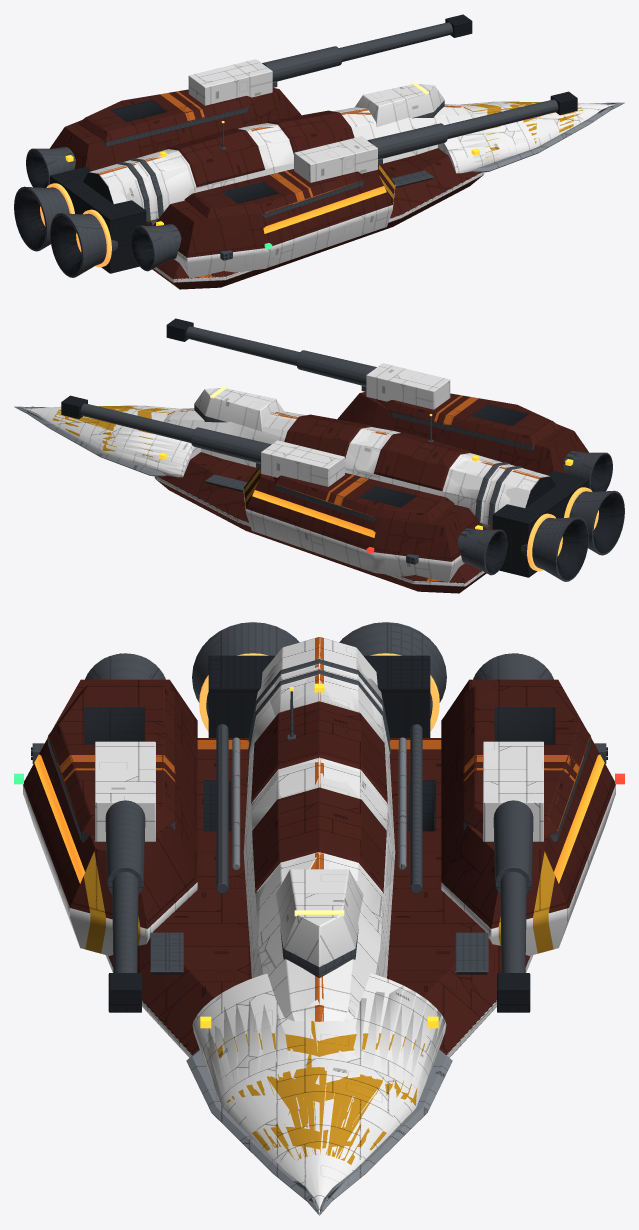
Rendered from ashline_lode.glb.
3 renders of one model, top to bottom at view 1: azimuth 30°, elevation 25°; view 2: azimuth 150°, elevation 25°; view 3: azimuth 270°, elevation 25°, orthographic. The views are drawn at different scales.
Parts seen in each view (by area): view 1: LOD0_MOTION_HULL_CORE_Hull, LOD0_MOTION_HULL_CORE_Armor, LOD0_MOTION_HULL_CORE_Mechanical, LOD0_MOTION_HULL_CORE_MechanicalDark, LOD2_MOTION_HULL_CORE_MechanicalDark, LOD2_MOTION_HULL_CORE_Armor, LOD1_MOTION_HULL_CORE_Armor, LOD1_MOTION_HULL_CORE_Mechanical, LOD2_MOTION_HULL_CORE_Mechanical, LOD1_MOTION_HULL_CORE_Hull, LOD0_MOTION_HULL_CORE_Livery, LOD0_MOTION_HULL_CORE_BrushedMetal (+5 smaller); view 2: LOD0_MOTION_HULL_CORE_Hull, LOD0_MOTION_HULL_CORE_Armor, LOD0_MOTION_HULL_CORE_Mechanical, LOD0_MOTION_HULL_CORE_MechanicalDark, LOD1_MOTION_HULL_CORE_Armor, LOD2_MOTION_HULL_CORE_MechanicalDark, LOD2_MOTION_HULL_CORE_Armor, LOD1_MOTION_HULL_CORE_Mechanical, LOD2_MOTION_HULL_CORE_Mechanical, LOD1_MOTION_HULL_CORE_Hull, LOD0_MOTION_HULL_CORE_Livery, LOD0_MOTION_HULL_CORE_BrushedMetal (+5 smaller); view 3: LOD0_MOTION_HULL_CORE_Hull, LOD0_MOTION_HULL_CORE_Armor, LOD0_MOTION_HULL_CORE_Mechanical, LOD1_MOTION_HULL_CORE_Armor, LOD2_MOTION_HULL_CORE_Armor, LOD0_MOTION_HULL_CORE_MechanicalDark, LOD0_MOTION_HULL_CORE_BrushedMetal, LOD0_MOTION_HULL_CORE_Warning, LOD2_MOTION_HULL_CORE_MechanicalDark, LOD2_MOTION_HULL_CORE_Warning, LOD1_MOTION_HULL_CORE_Mechanical, LOD1_MOTION_HULL_CORE_Hull (+6 smaller).
Boxes of the visible parts, x1=… form: LOD0_MOTION_HULL_CORE_Hull: x1=50, y1=88, x2=482, y2=289; LOD0_MOTION_HULL_CORE_Armor: x1=89, y1=59, x2=614, y2=282; LOD0_MOTION_HULL_CORE_Mechanical: x1=14, y1=22, x2=558, y2=277; LOD0_MOTION_HULL_CORE_MechanicalDark: x1=14, y1=14, x2=577, y2=275; LOD2_MOTION_HULL_CORE_MechanicalDark: x1=14, y1=23, x2=559, y2=275; LOD2_MOTION_HULL_CORE_Armor: x1=98, y1=82, x2=610, y2=282; LOD1_MOTION_HULL_CORE_Armor: x1=103, y1=71, x2=611, y2=282; LOD1_MOTION_HULL_CORE_Mechanical: x1=14, y1=57, x2=447, y2=276; LOD2_MOTION_HULL_CORE_Mechanical: x1=14, y1=23, x2=554, y2=277; LOD1_MOTION_HULL_CORE_Hull: x1=79, y1=95, x2=480, y2=286; LOD0_MOTION_HULL_CORE_Livery: x1=98, y1=91, x2=471, y2=277; LOD0_MOTION_HULL_CORE_BrushedMetal: x1=156, y1=102, x2=624, y2=219; LOD0_MOTION_HULL_CORE_Hull: x1=156, y1=392, x2=589, y2=593; LOD0_MOTION_HULL_CORE_Armor: x1=24, y1=363, x2=549, y2=586; LOD0_MOTION_HULL_CORE_Mechanical: x1=80, y1=326, x2=624, y2=581; LOD0_MOTION_HULL_CORE_MechanicalDark: x1=61, y1=318, x2=624, y2=579; LOD1_MOTION_HULL_CORE_Armor: x1=28, y1=375, x2=535, y2=586; LOD2_MOTION_HULL_CORE_MechanicalDark: x1=184, y1=329, x2=624, y2=579; LOD2_MOTION_HULL_CORE_Armor: x1=26, y1=393, x2=540, y2=586; LOD1_MOTION_HULL_CORE_Mechanical: x1=191, y1=361, x2=620, y2=580; LOD2_MOTION_HULL_CORE_Mechanical: x1=186, y1=332, x2=624, y2=581; LOD1_MOTION_HULL_CORE_Hull: x1=158, y1=399, x2=559, y2=593; LOD0_MOTION_HULL_CORE_Livery: x1=168, y1=395, x2=540, y2=581; LOD0_MOTION_HULL_CORE_BrushedMetal: x1=14, y1=406, x2=482, y2=523; LOD0_MOTION_HULL_CORE_Hull: x1=24, y1=679, x2=614, y2=1054; LOD0_MOTION_HULL_CORE_Armor: x1=23, y1=638, x2=615, y2=1209; LOD0_MOTION_HULL_CORE_Mechanical: x1=32, y1=622, x2=606, y2=977; LOD1_MOTION_HULL_CORE_Armor: x1=23, y1=637, x2=615, y2=1209; LOD2_MOTION_HULL_CORE_Armor: x1=95, y1=637, x2=543, y2=1204; LOD0_MOTION_HULL_CORE_MechanicalDark: x1=31, y1=655, x2=607, y2=1012; LOD0_MOTION_HULL_CORE_BrushedMetal: x1=186, y1=737, x2=452, y2=1215; LOD0_MOTION_HULL_CORE_Warning: x1=83, y1=851, x2=555, y2=1150; LOD2_MOTION_HULL_CORE_MechanicalDark: x1=83, y1=688, x2=555, y2=1012; LOD2_MOTION_HULL_CORE_Warning: x1=277, y1=1067, x2=375, y2=1159; LOD1_MOTION_HULL_CORE_Mechanical: x1=49, y1=622, x2=589, y2=977; LOD1_MOTION_HULL_CORE_Hull: x1=23, y1=684, x2=615, y2=1054.
Size of what is drawn, in the model's own units: 22.12 by 4.02 by 11.02.
Materials: 13 (7 with a texture image).
